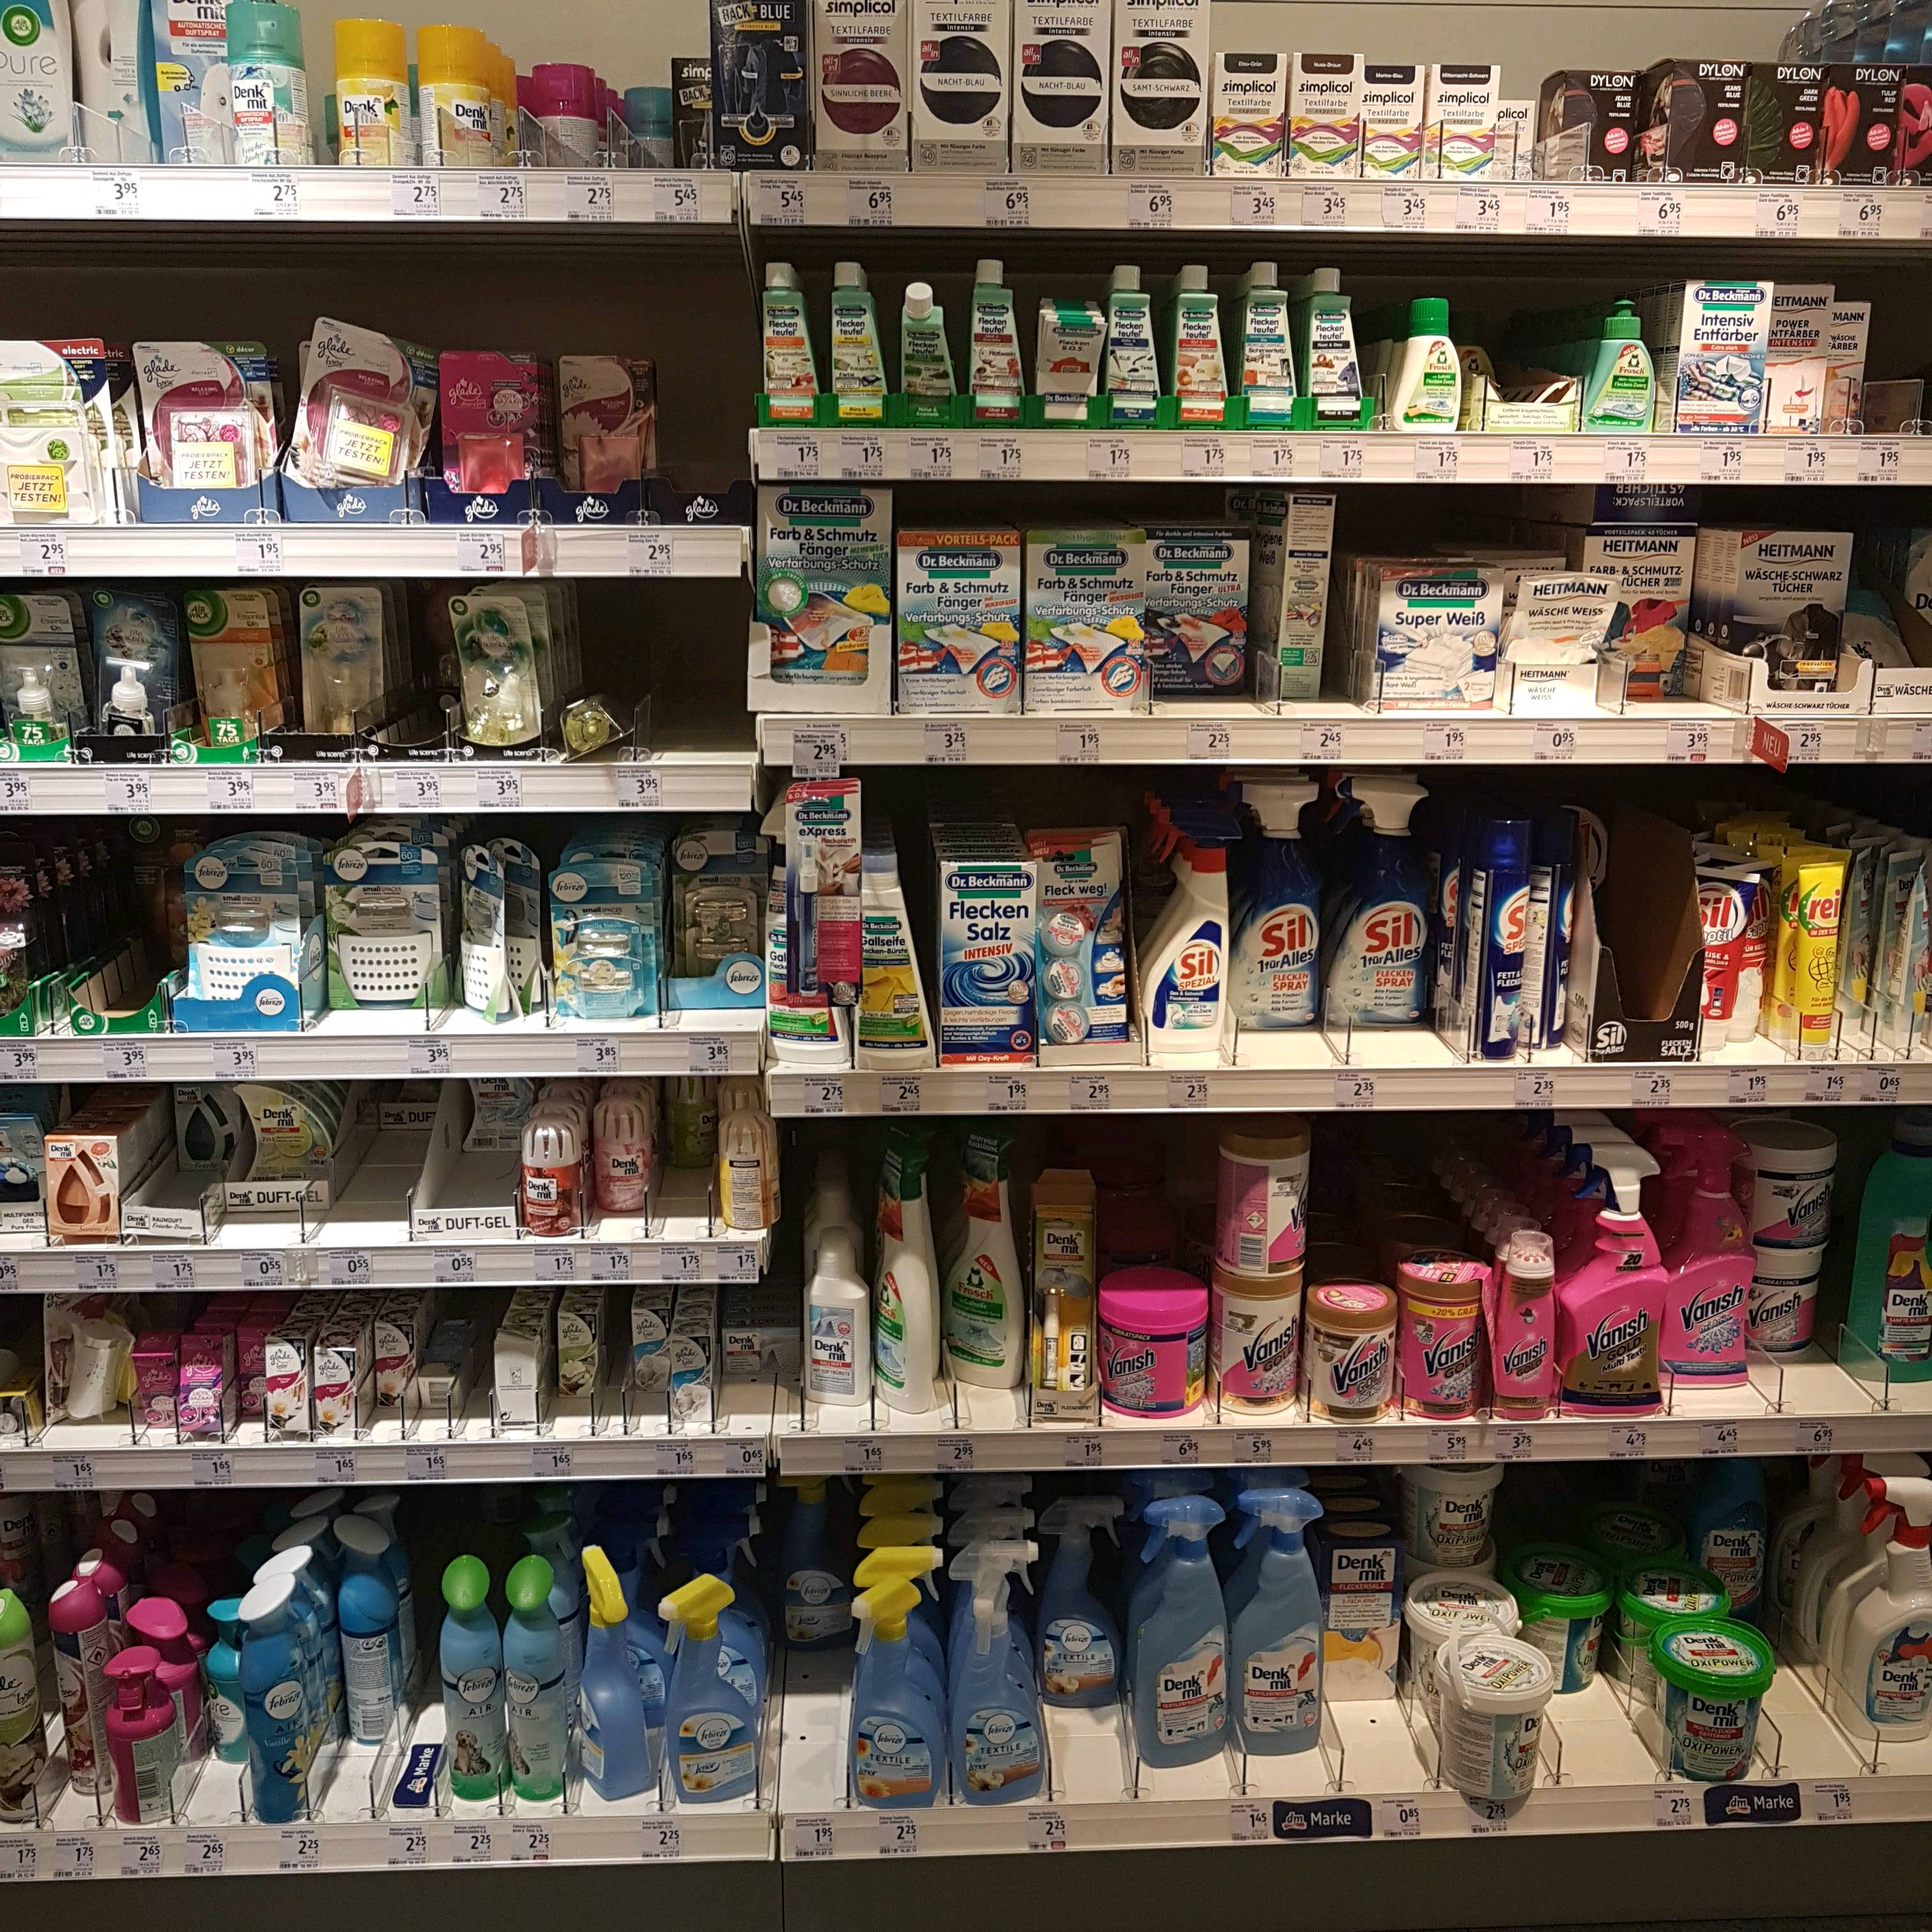Misplacement: (1229, 772, 1476, 1071)
Out-of-stock: (647, 574, 748, 759)
